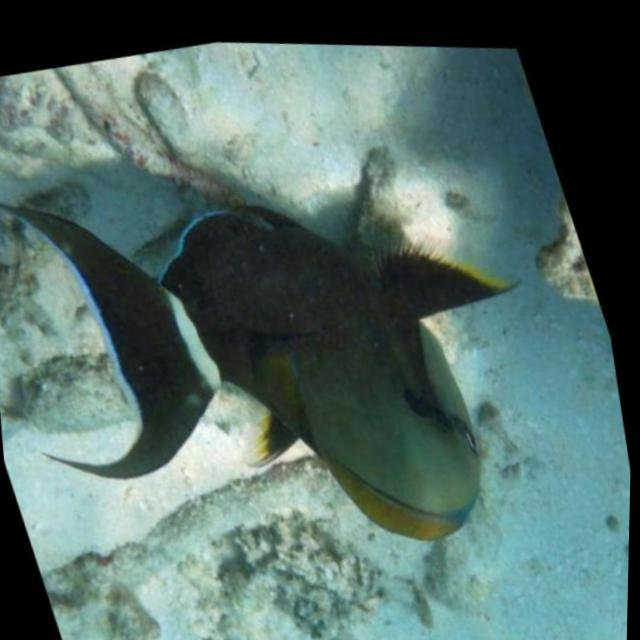Dead Coral: (10, 411, 398, 640), (0, 340, 127, 450)
